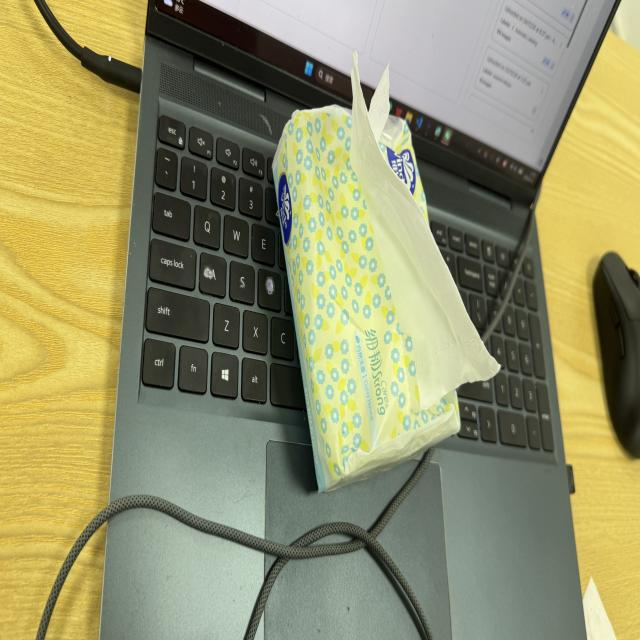tissue: (273, 65, 498, 491), (351, 53, 499, 408)
